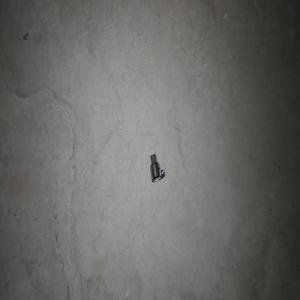MetalPart: (149, 153, 164, 182)
